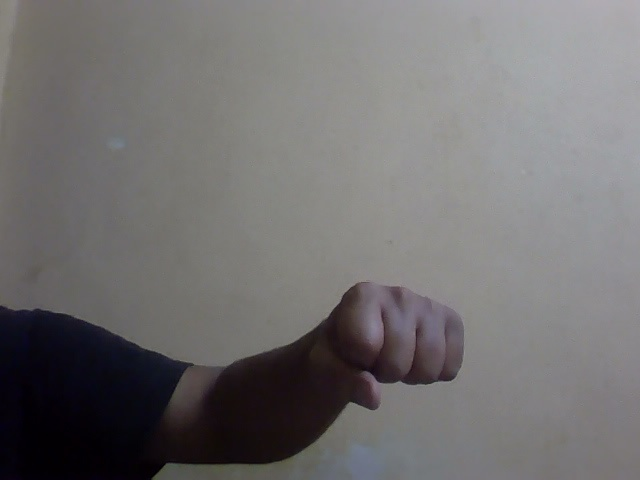Yes: (287, 265, 505, 421)
